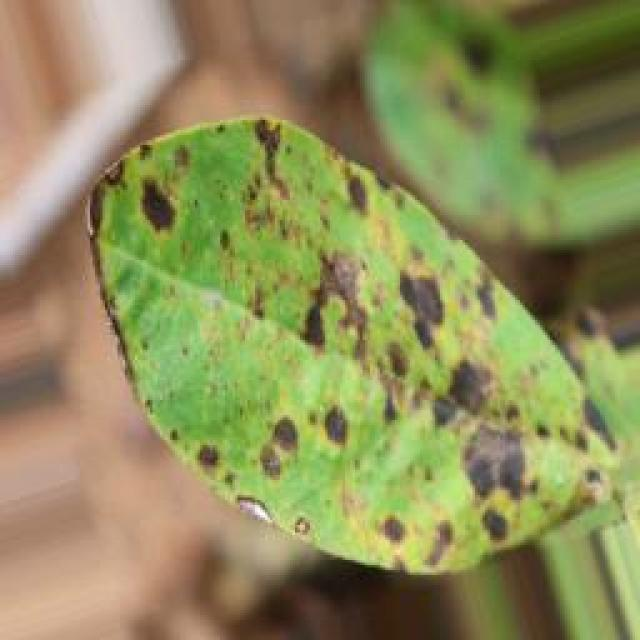Yellowish: (65, 105, 610, 556)
